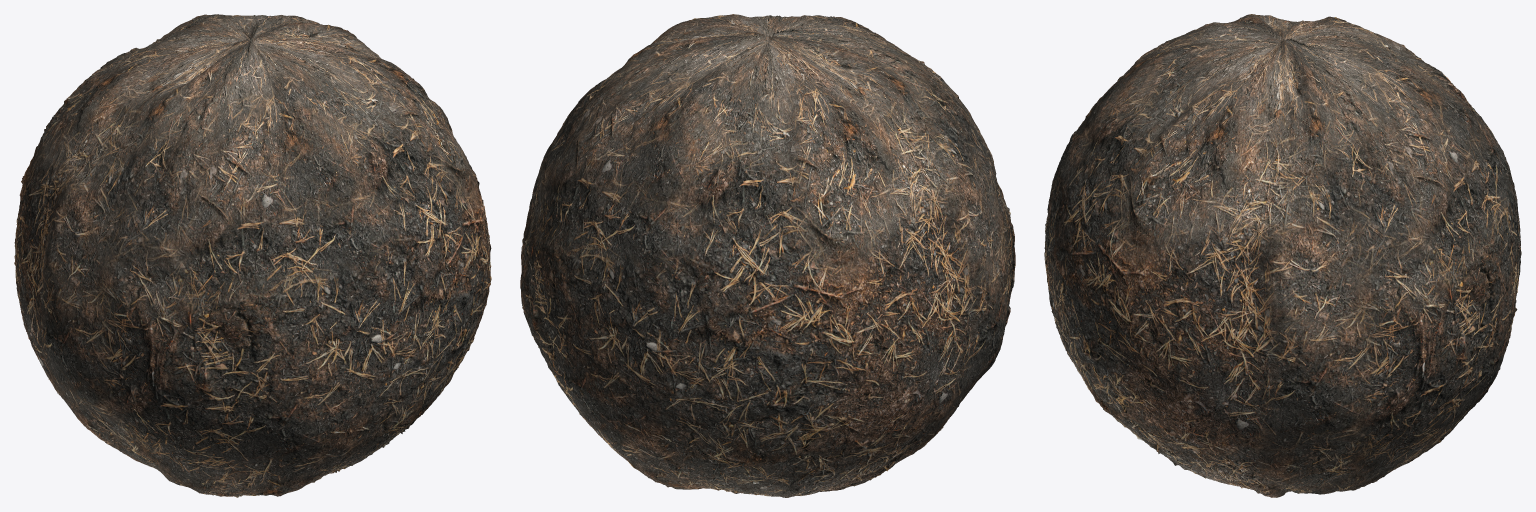
Rendered from burned_ground_01_1k.gltf.
3 renders of one model, left to right at view 1: azimuth 30°, elevation 25°; view 2: azimuth 150°, elevation 25°; view 3: azimuth 270°, elevation 25°, orthographic. The views are drawn at different scales.
Parts seen in each view (by area): view 1: sphere_gltf.001; view 2: sphere_gltf.001; view 3: sphere_gltf.001.
Boxes of the visible parts, x1,y1,x2,y2 form: sphere_gltf.001: [14, 14, 491, 497]; sphere_gltf.001: [520, 14, 1015, 497]; sphere_gltf.001: [1044, 14, 1521, 497].
Size of the model in its own units: 1.05 by 1.05 by 1.03.
1 material, 1 textured.
